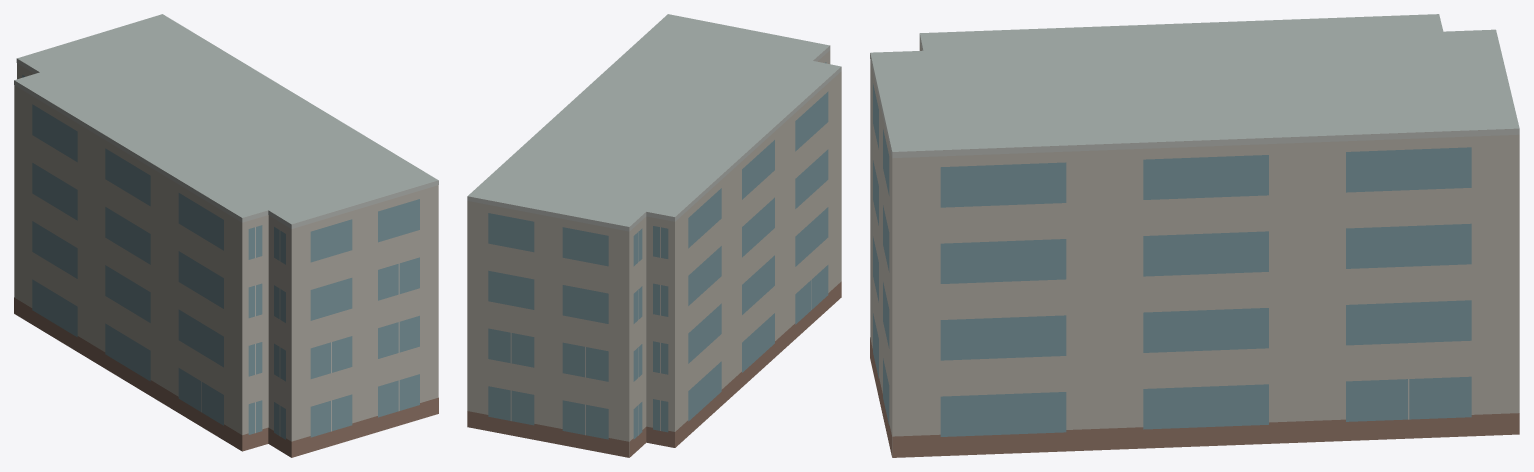
File: survey-upis-32953441.glb
3 renders of one model, left to right at view 1: azimuth 30°, elevation 25°; view 2: azimuth 150°, elevation 25°; view 3: azimuth 270°, elevation 25°, orthographic. The views are drawn at different scales.
Parts seen in each view (by area): view 1: survey-upis-32953441.tmp; view 2: survey-upis-32953441.tmp; view 3: survey-upis-32953441.tmp.
Boxes of the visible parts, x1,y1,x2,y2 form: survey-upis-32953441.tmp: (14, 14, 438, 457); survey-upis-32953441.tmp: (467, 14, 841, 457); survey-upis-32953441.tmp: (870, 14, 1519, 457).
Size of the model in its own units: 11.72 by 12.1 by 23.3.
